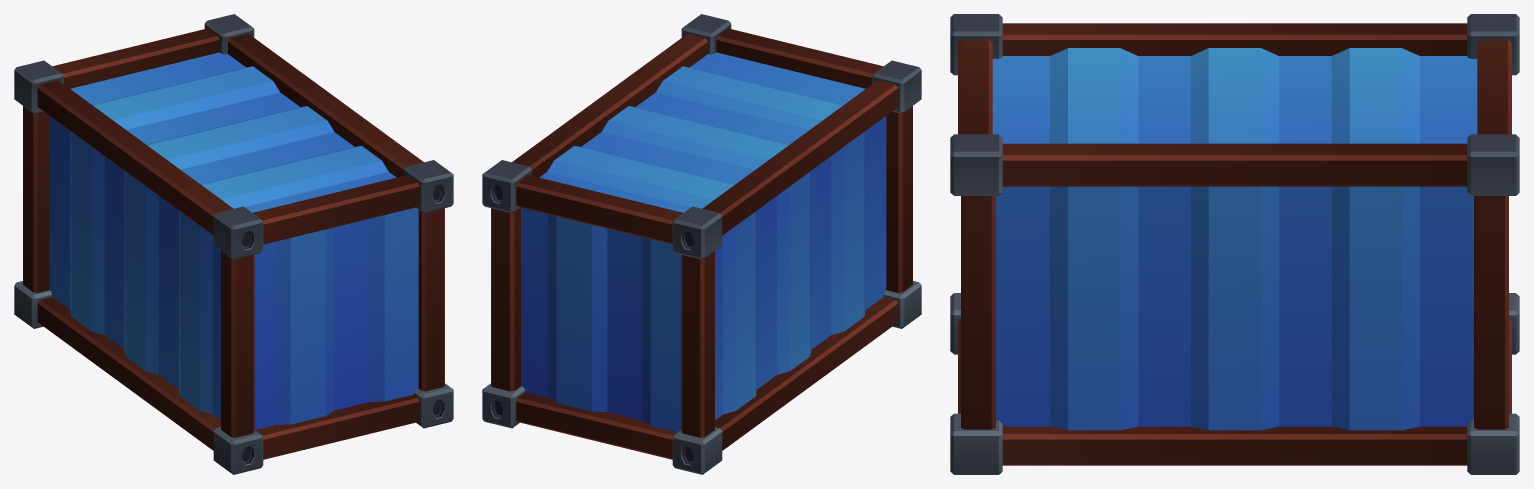
Rendered from sp_build_wall_part0a.fbx.
3 renders of one model, left to right at view 1: azimuth 30°, elevation 25°; view 2: azimuth 150°, elevation 25°; view 3: azimuth 270°, elevation 25°, orthographic. The views are drawn at different scales.
Parts seen in each view (by area): view 1: wall_part0a; view 2: wall_part0a; view 3: wall_part0a.
Part boxes in pixels (x1=…): wall_part0a: x1=14, y1=14, x2=453, y2=474; wall_part0a: x1=482, y1=14, x2=921, y2=474; wall_part0a: x1=950, y1=14, x2=1519, y2=474.
Bounding box in the file's own units: 293 × 313 × 499.
